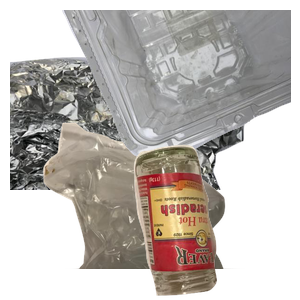glass: (131, 142, 300, 300)
metal: (10, 47, 250, 227)
plastic: (60, 10, 300, 162)
trash: (41, 120, 276, 300)
